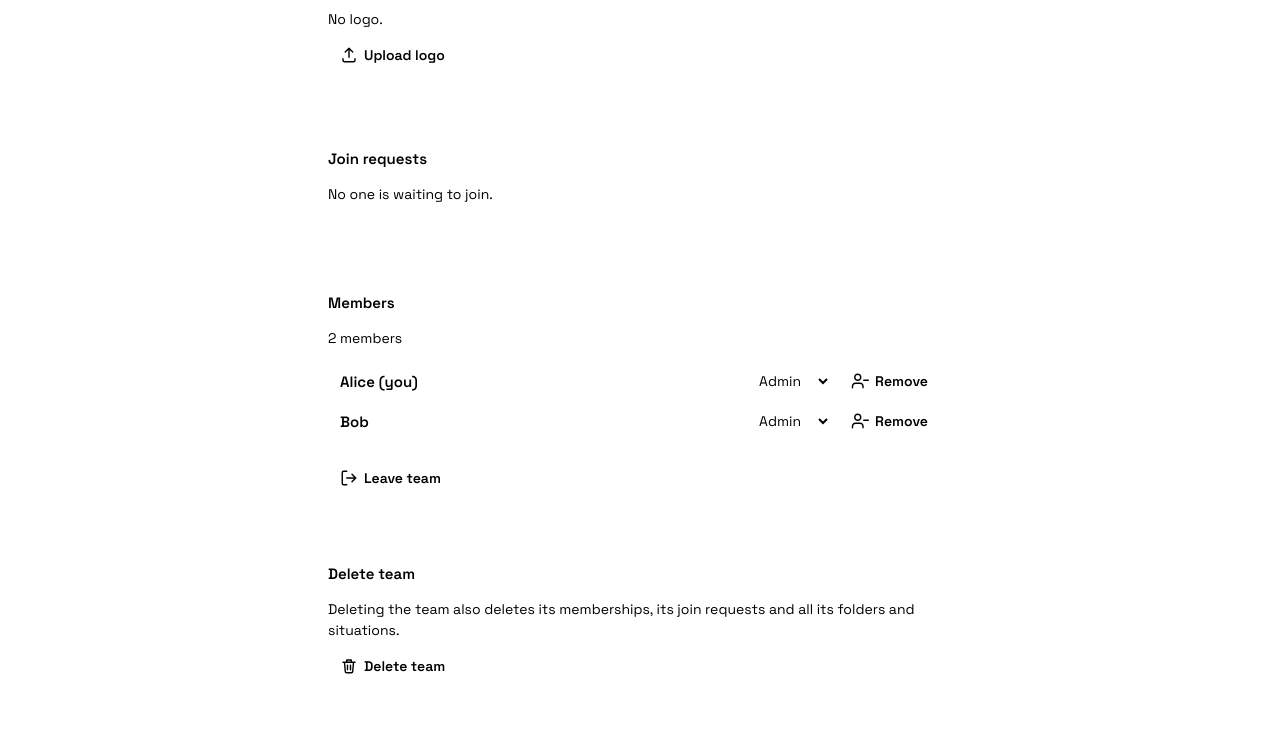
Scenario: team page › reloads the team after an Admin changed their own role
The width and height of the screenshot is (1280, 752).
(page scrolled)
Select "Reader" in the dropdown named "Role of Alice (you)" in the row of "Alice (you)": (789, 381) [747,371,831,391]
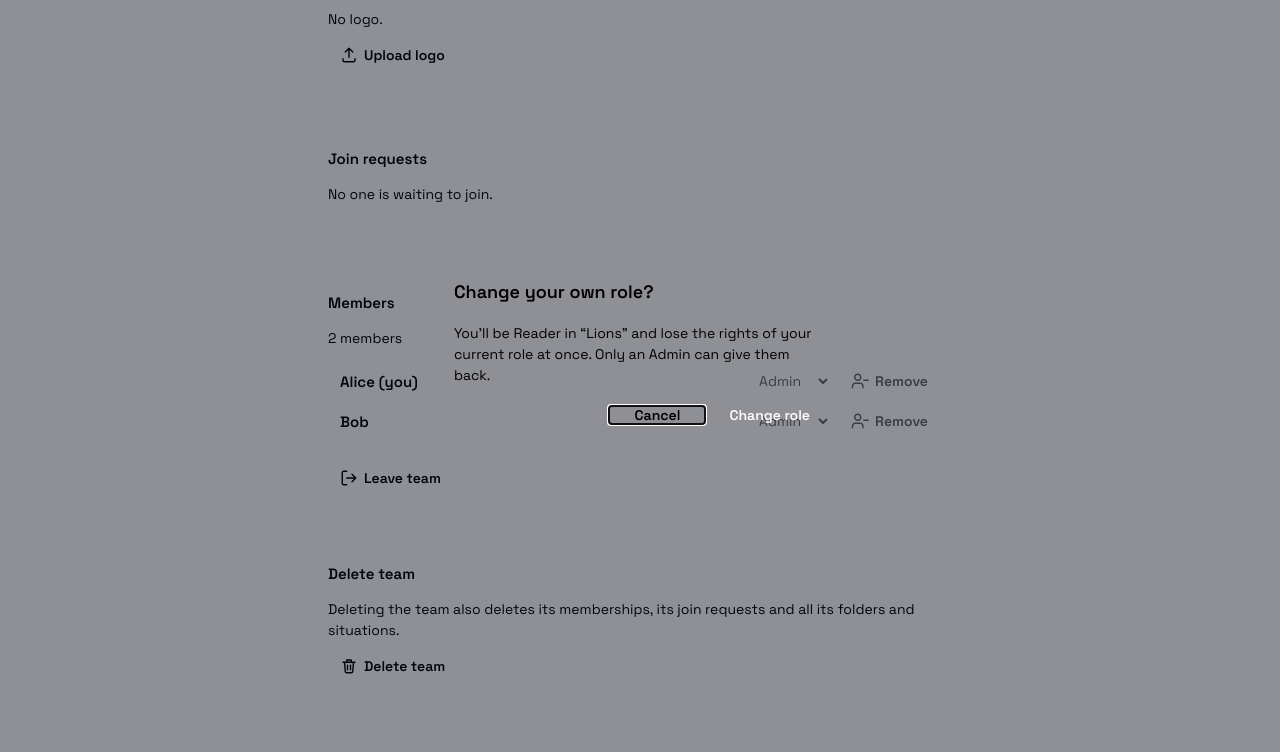
Now the dialog "Change your own role?" shows "You'll be Reader in “Lions” and lose the rights of your current role at once.", box [454,324,812,384]
Click the button "Change role": (770, 415) [714,406,826,424]
(page scrolled)
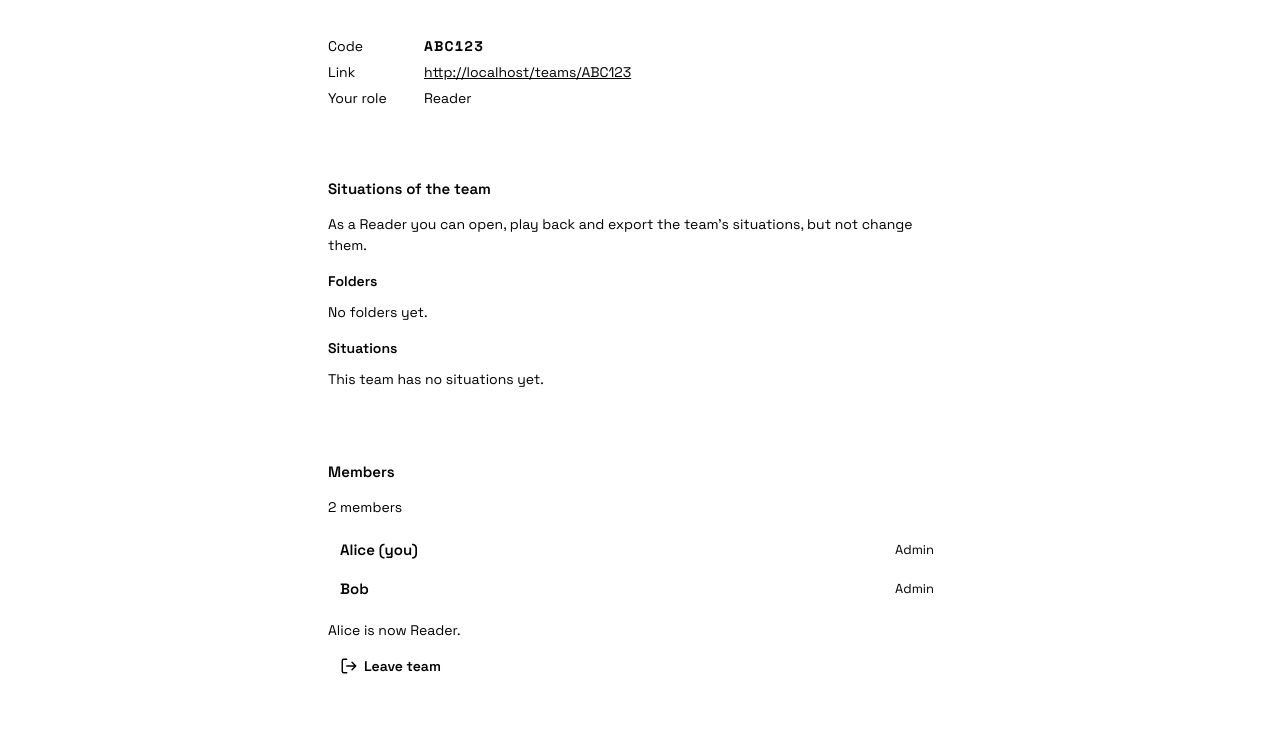
Now the heading "Delete team" is gone
Now the text "Reader" is shown, box [424,89,472,107]
